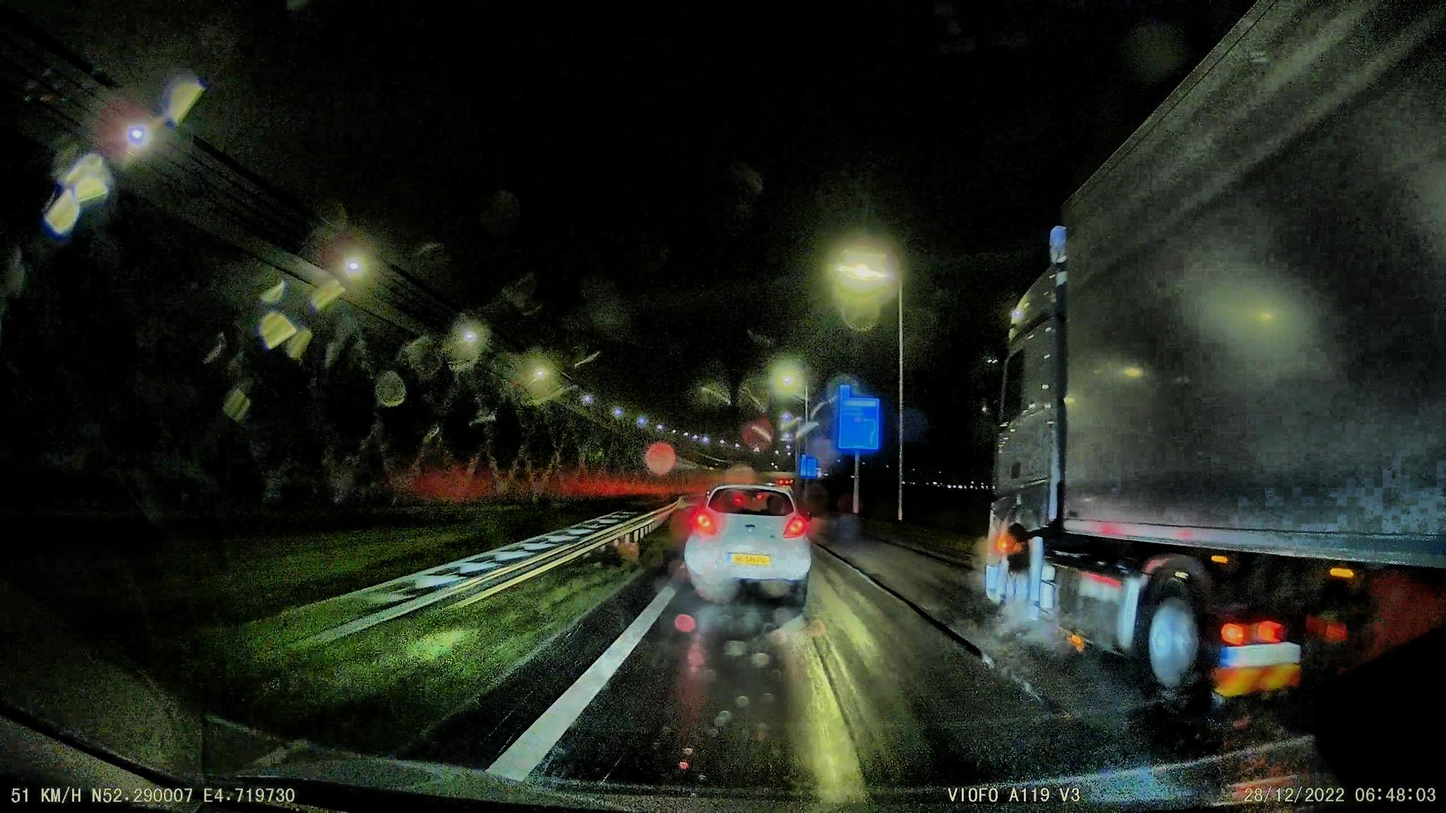Roads: (480, 517, 1277, 813)
